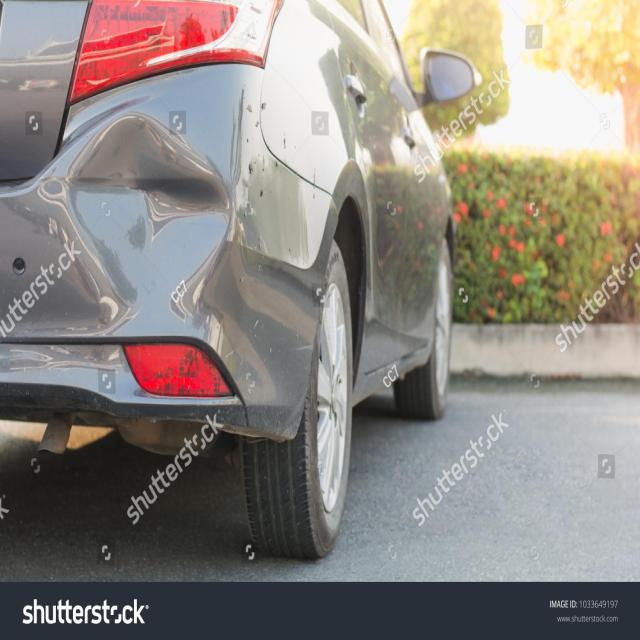dent: (36, 106, 278, 404)
